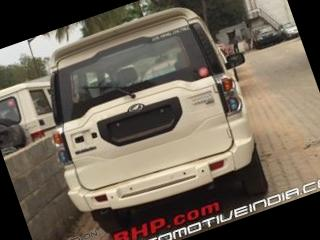plate: (93, 88, 199, 158)
